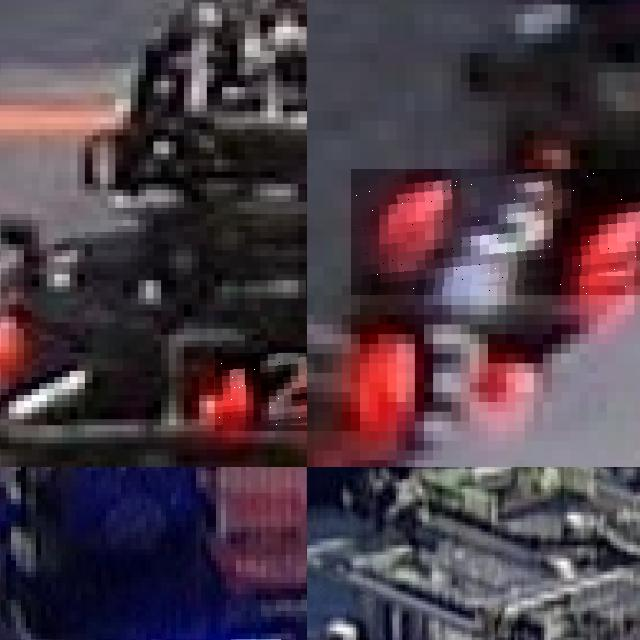R2: (214, 352, 307, 431)
R3: (350, 169, 640, 295), (351, 305, 534, 460)
